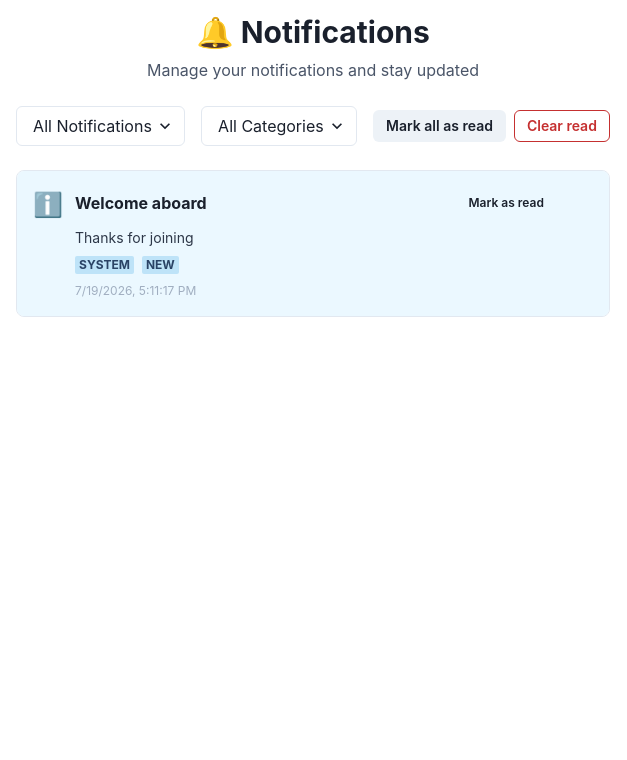
it: Notifications page › shows an error toast when mark-as-read fails
Expected: the text "Welcome aboard" is shown, 75,191 -> 207,215
Click the button "Mark as read".
click(506, 203)  # box 460,191 -> 553,215
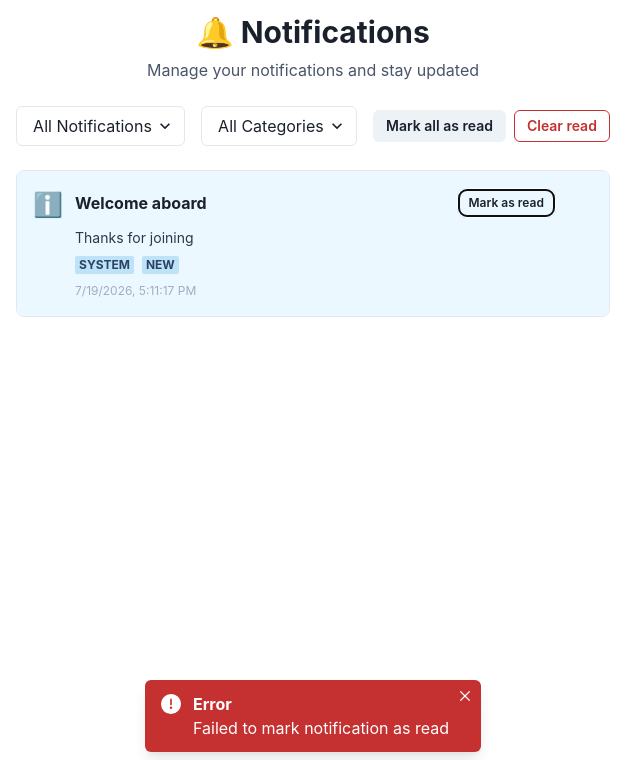
Expected: the text "Failed to mark notification as read" is shown, 193,716 -> 449,740
